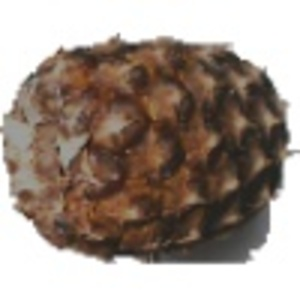abacaxi: (12, 28, 293, 257)
